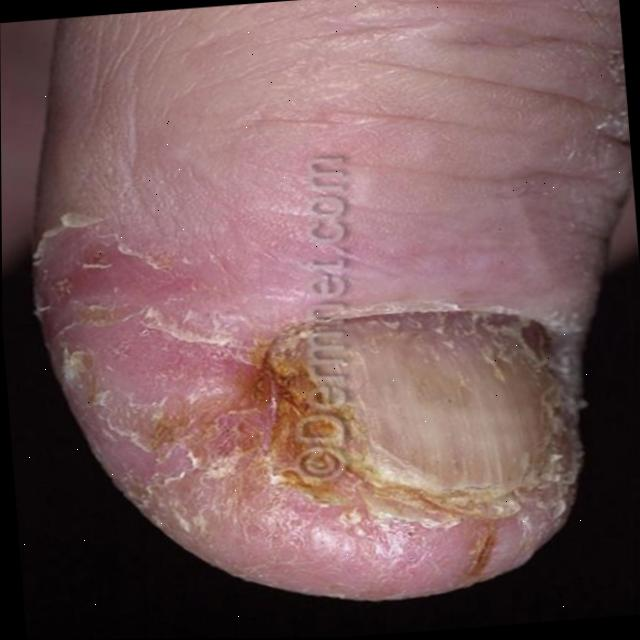Eczema: (90, 285, 396, 549)
